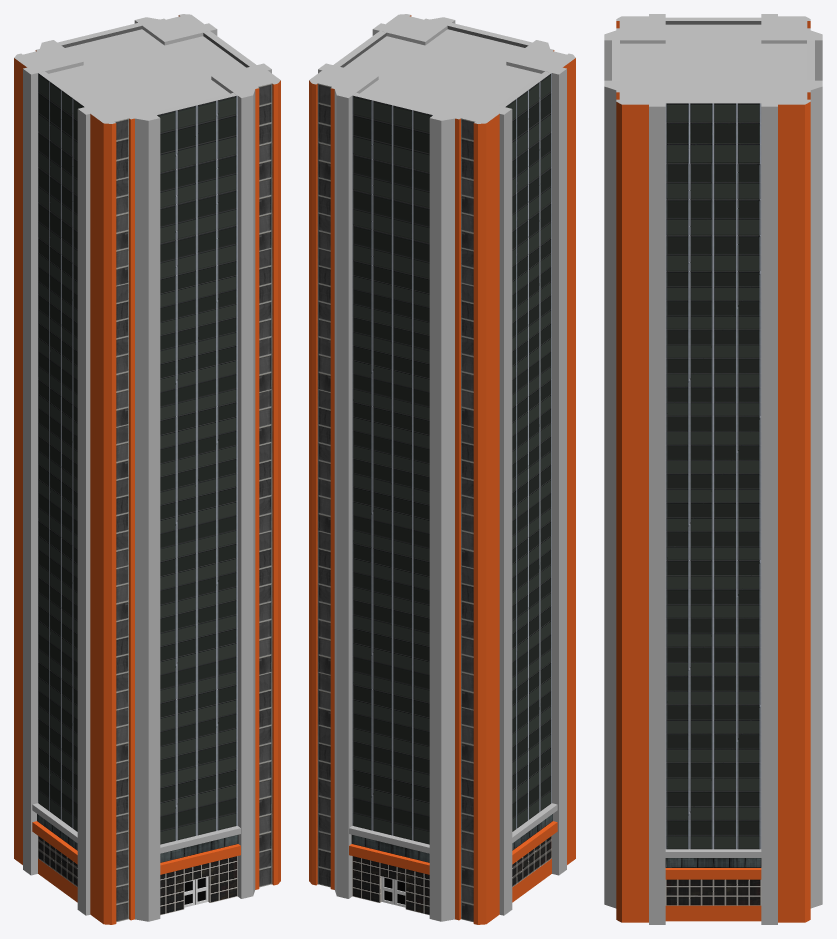
File: Tower-09.fbx
The picture shows the model from 3 angles, left to right: view 1: azimuth 30°, elevation 25°; view 2: azimuth 150°, elevation 25°; view 3: azimuth 270°, elevation 25°; orthographic projection. The views are drawn at different scales.
Parts seen in each view (by area): view 1: Building; view 2: Building; view 3: Building.
Boxes of the visible parts, x1,y1,x2,y2 form: Building: [14, 14, 280, 924]; Building: [309, 14, 575, 924]; Building: [604, 14, 822, 924].
Size of what is drawn, in the model's own units: 16.54 by 68 by 16.43.
